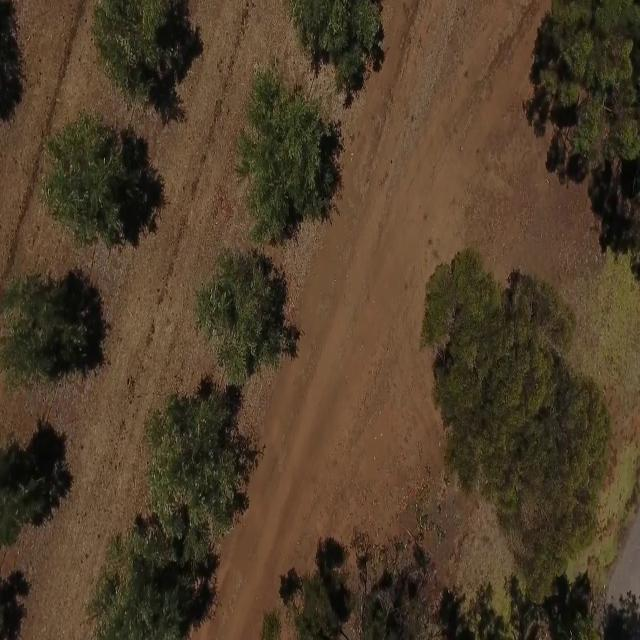trees: (234, 59, 338, 241), (87, 523, 222, 640), (140, 376, 247, 520), (34, 107, 134, 251), (0, 257, 96, 399), (194, 236, 287, 375), (88, 0, 173, 94)
